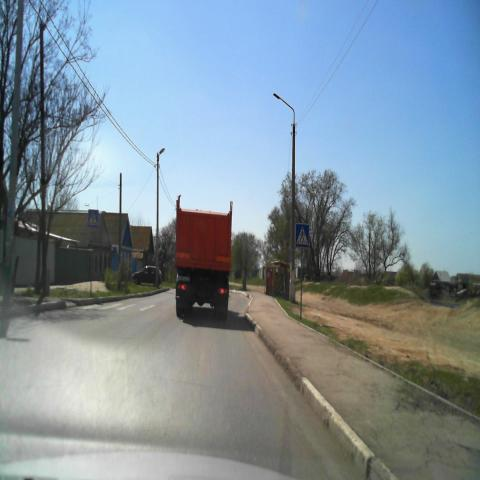5_19_1: (294, 224, 310, 248), (87, 208, 98, 228)
